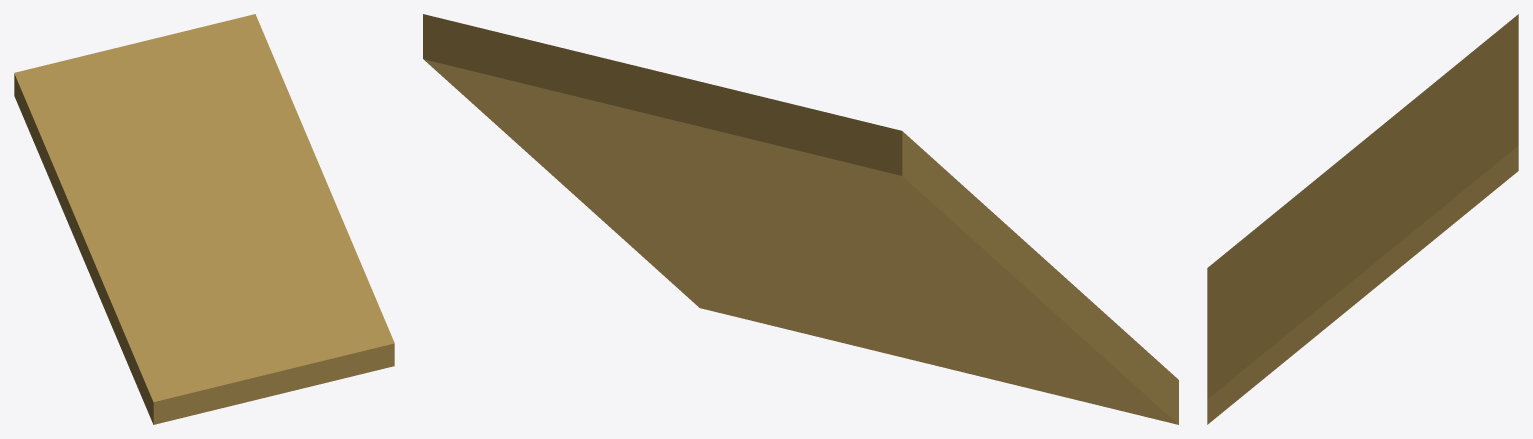
The model's file is RoofSlope.fbx.
The picture shows the model from 3 angles, left to right: view 1: azimuth 30°, elevation 25°; view 2: azimuth 150°, elevation 25°; view 3: azimuth 270°, elevation 25°; orthographic projection. The views are drawn at different scales.
Parts seen in each view (by area): view 1: Kit_RoofSlope; view 2: Kit_RoofSlope; view 3: Kit_RoofSlope.
Part boxes in pixels (x1,y1,x2,y2): Kit_RoofSlope: (14, 14, 394, 424); Kit_RoofSlope: (423, 14, 1178, 424); Kit_RoofSlope: (1207, 14, 1518, 424).
Bounding box in the file's own units: 1 × 0.9904 × 1.
